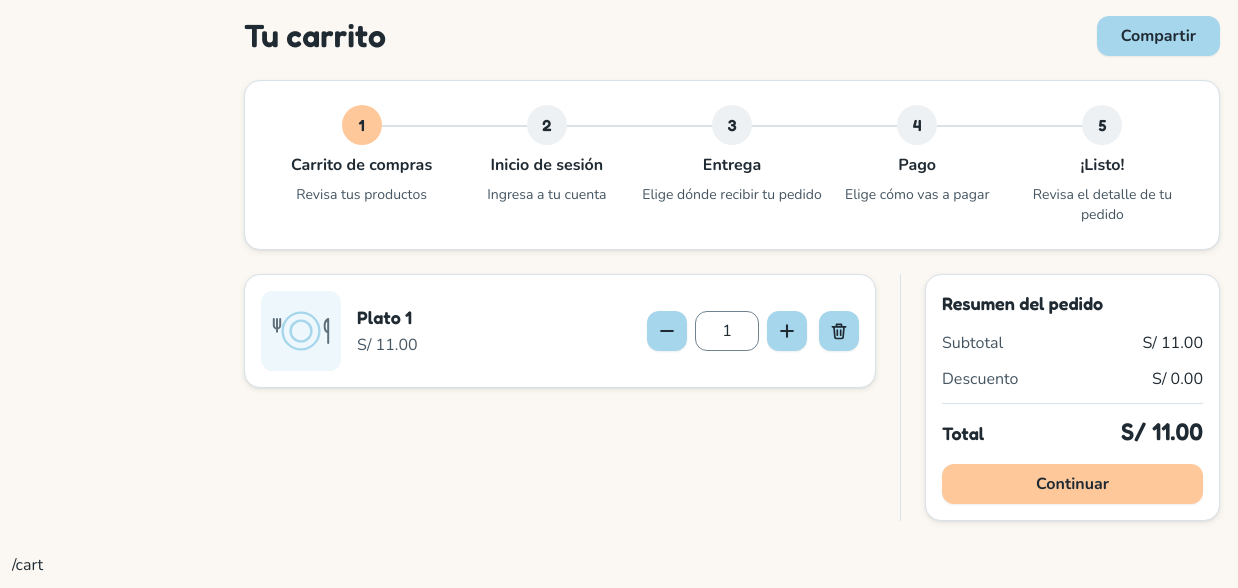
Scenario: CartPage › pasos de la compra › desaparece al quitar el último plato
The image size is (1238, 588).
Expected: the navigation bar named "Pasos de la compra" is shown, 244,80 -> 1220,250
Click the button named "Eliminar": (839, 331) 819,311 -> 859,351
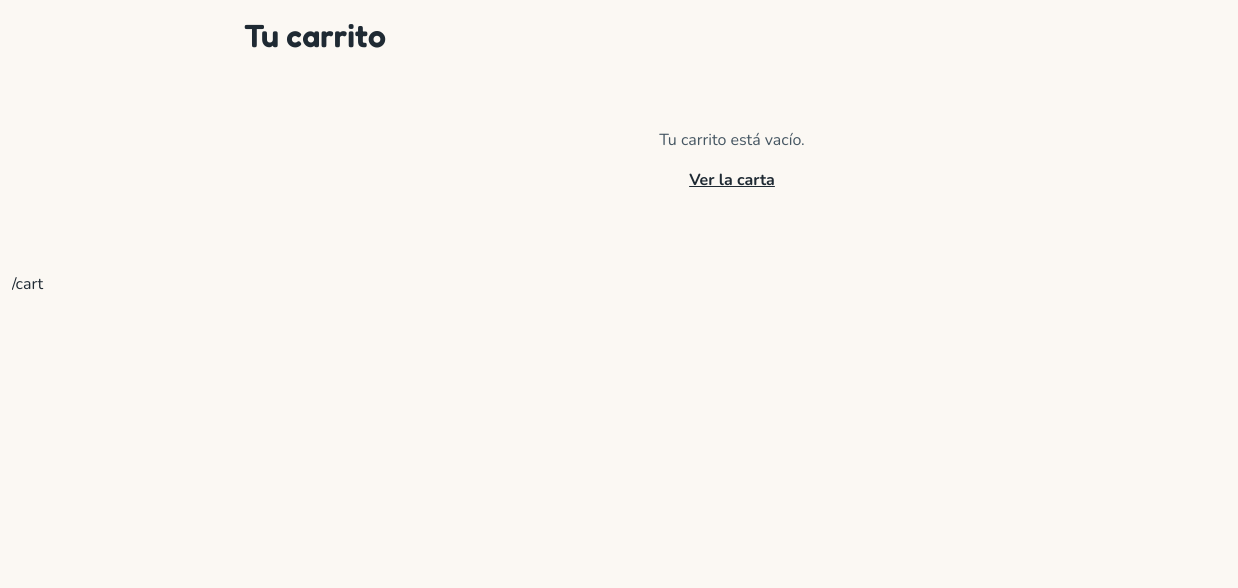
Result: the text "Tu carrito está vacío." is shown at 659,128 -> 805,152
